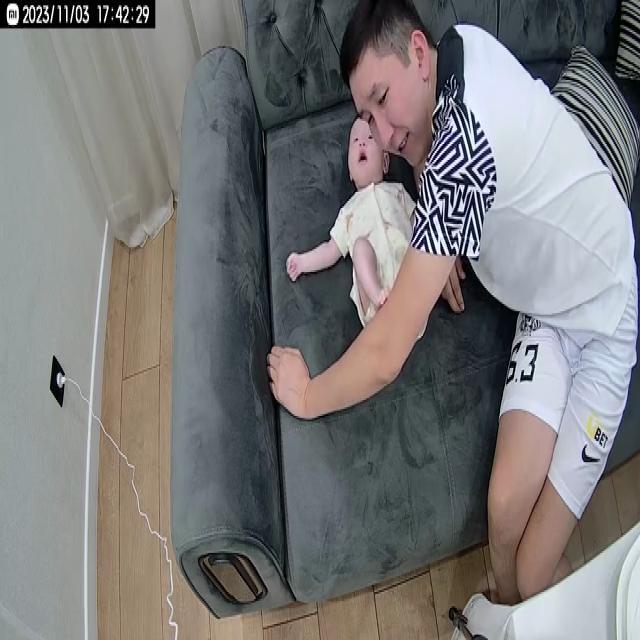baby: (282, 110, 434, 357)
